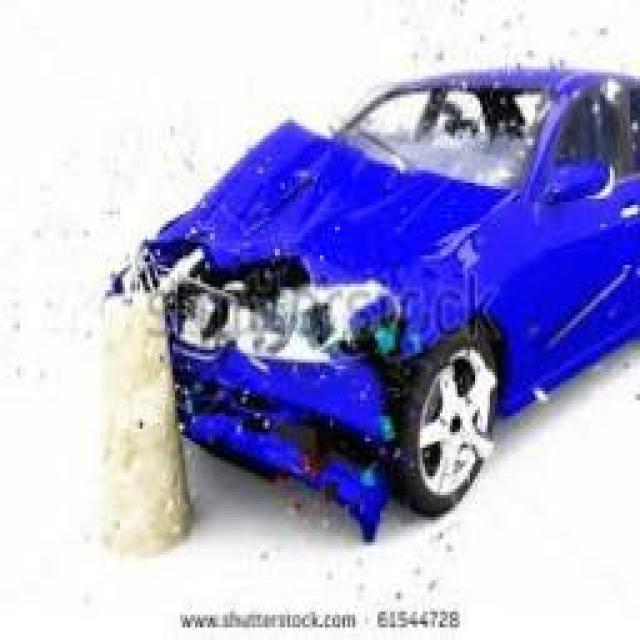Bonnet: (135, 117, 522, 315)
Bumper: (162, 337, 432, 532)
Windshield: (337, 87, 556, 190)
